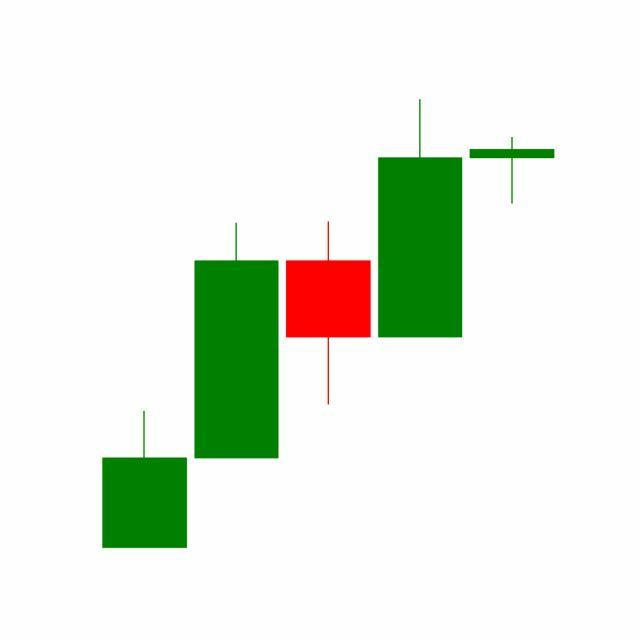Dragonfly Doji: (466, 137, 559, 206)
